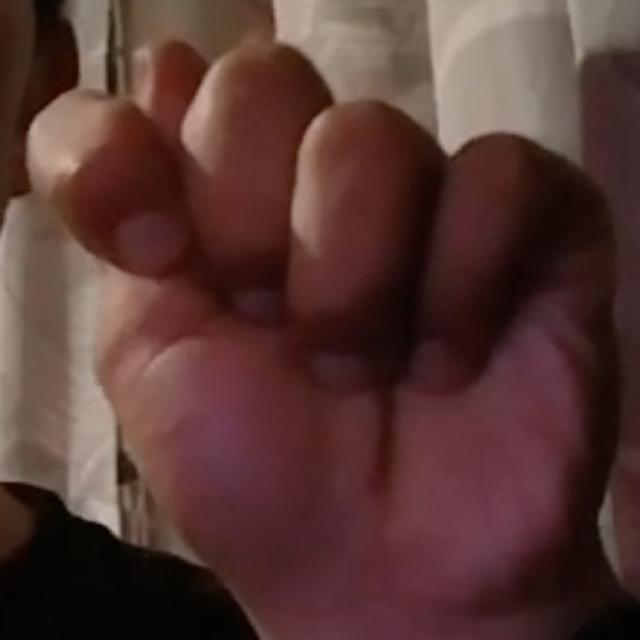T: (13, 14, 626, 635)
